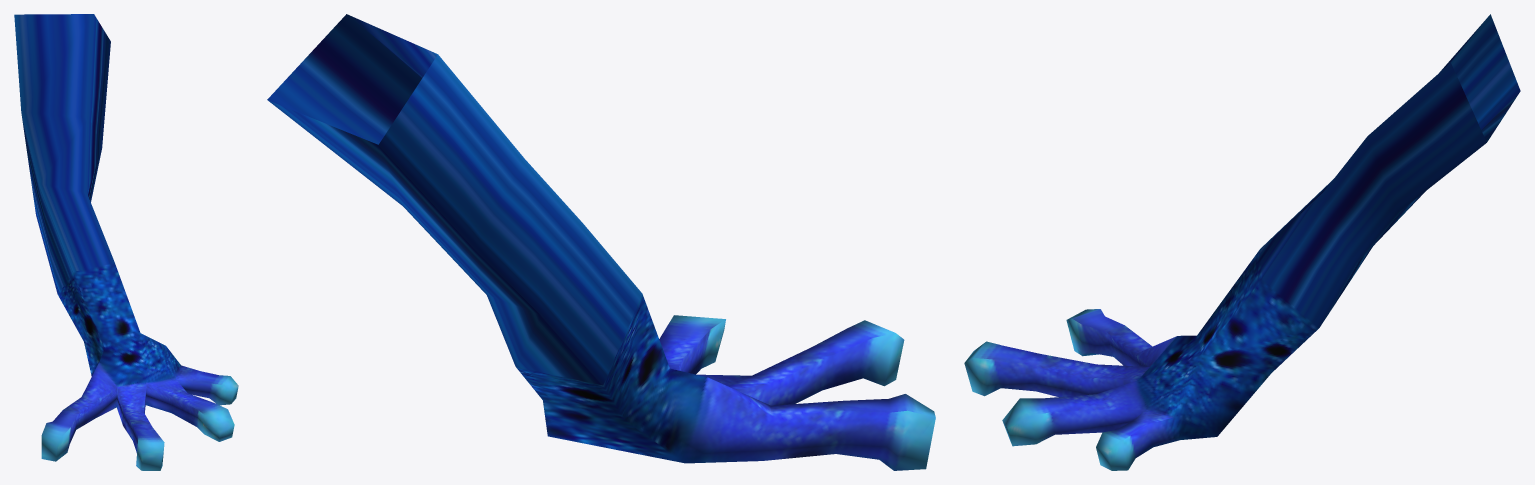
The model's file is frog-arm.obj.
The picture shows the model from 3 angles, left to right: view 1: azimuth 30°, elevation 25°; view 2: azimuth 150°, elevation 25°; view 3: azimuth 270°, elevation 25°; orthographic projection. The views are drawn at different scales.
Parts seen in each view (by area): view 1: BluePoisonDartFrog_Untitled; view 2: BluePoisonDartFrog_Untitled; view 3: BluePoisonDartFrog_Untitled.
Part boxes in pixels (left/top/right/bottom): BluePoisonDartFrog_Untitled: left=14, top=14, right=238, bottom=470; BluePoisonDartFrog_Untitled: left=267, top=14, right=935, bottom=470; BluePoisonDartFrog_Untitled: left=964, top=14, right=1520, bottom=470.
Size of the model in its own units: 3.3 by 4.44 by 5.43.
